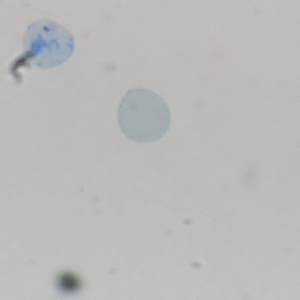aggregate reticulocyte: (21, 18, 77, 70)
erythrocyte: (115, 87, 173, 145)
